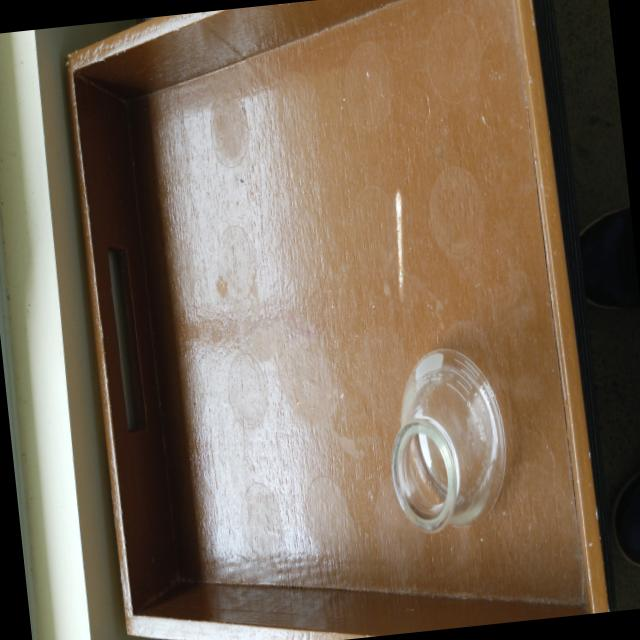erlenmeyer_flask: (372, 327, 520, 542)
